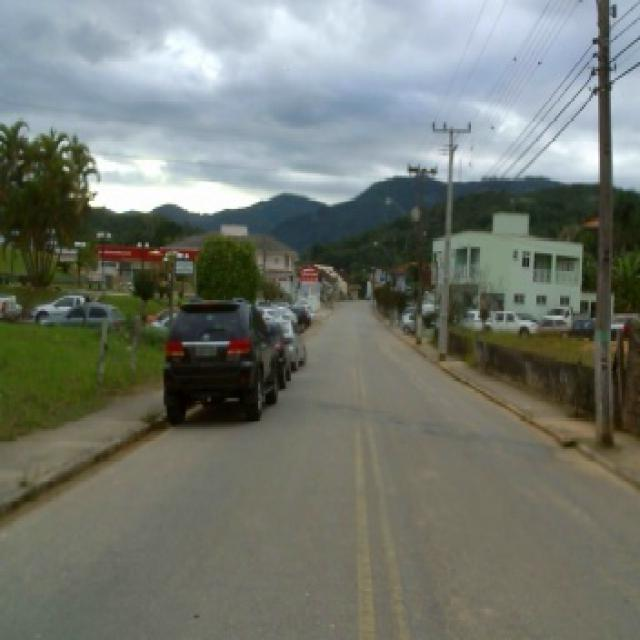Poth-hole: (424, 426, 442, 436), (393, 414, 409, 424)
